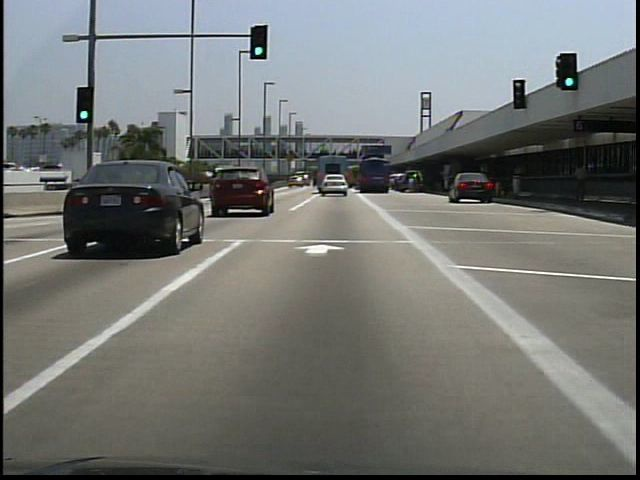person: (569, 158, 589, 206)
